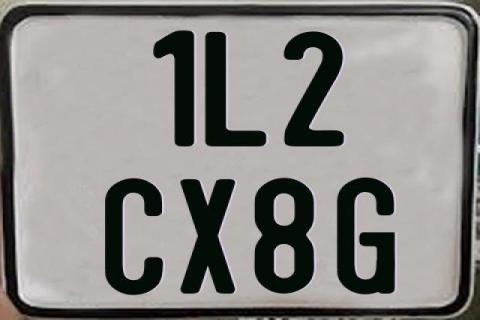0: (284, 31, 349, 150), (253, 177, 315, 295), (152, 30, 198, 146)
C: (103, 178, 162, 298)
G: (335, 175, 398, 295)
L: (203, 30, 267, 150)
X: (178, 177, 236, 297)
